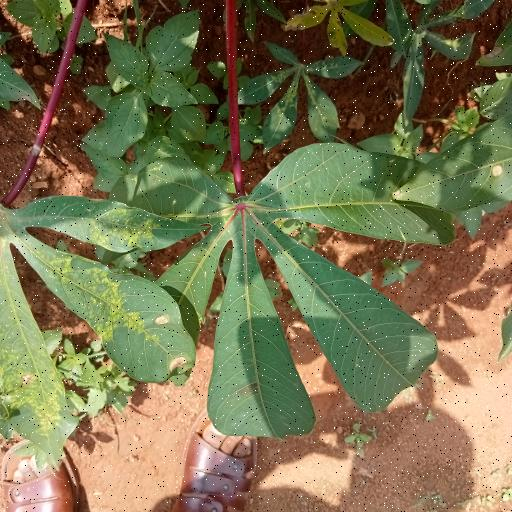Cassava_Healthy: (127, 142, 453, 438)
